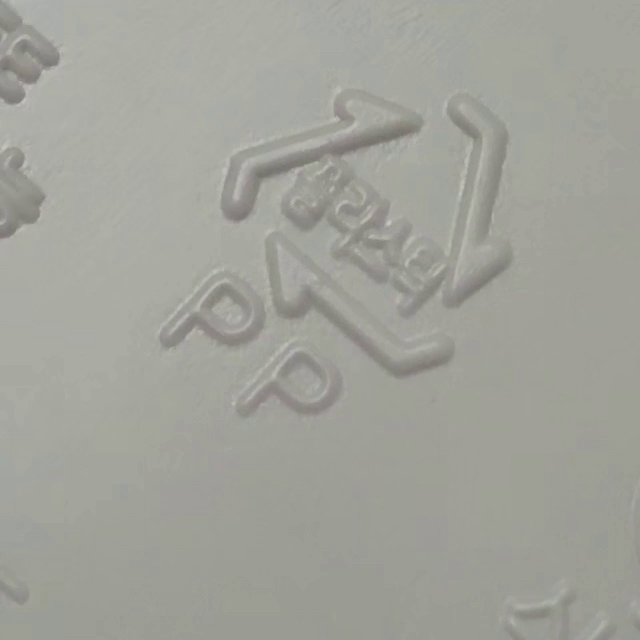Plastic: (221, 91, 513, 376)
